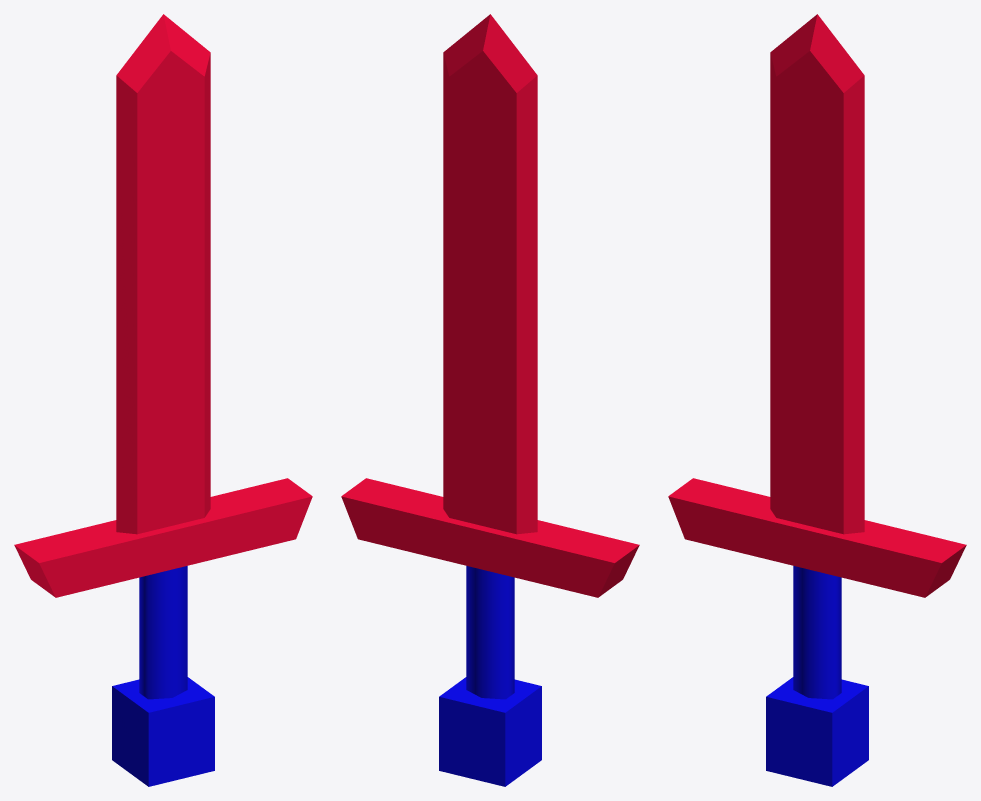
The model's file is CastingRoom_Sword.fbx.
3 views of the same model, side by side, from view 1: azimuth 30°, elevation 25°; view 2: azimuth 150°, elevation 25°; view 3: azimuth 330°, elevation 25° (orthographic).
Parts seen in each view (by area): view 1: CastingRoom_Sword; view 2: CastingRoom_Sword; view 3: CastingRoom_Sword.
Part boxes in pixels (x1,y1,x2,y2): CastingRoom_Sword: [14, 14, 312, 786]; CastingRoom_Sword: [341, 14, 639, 786]; CastingRoom_Sword: [668, 14, 966, 786].
Size of the model in its own units: 102 by 267 by 23.54.
